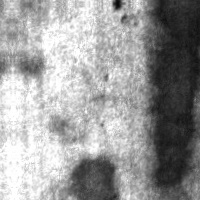patches: (147, 3, 199, 186), (68, 155, 119, 199)
